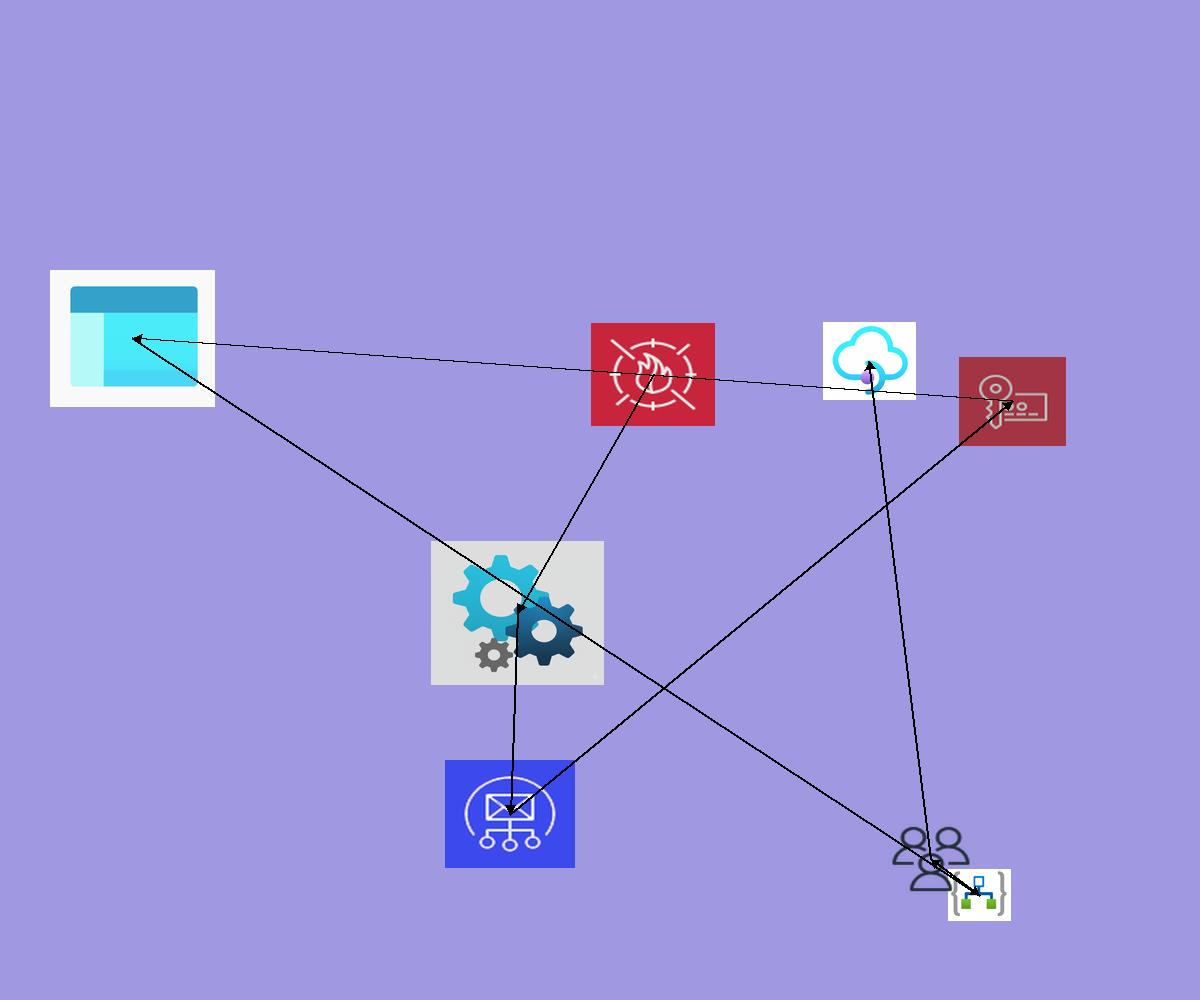AWS-Key-Management-Service: (959, 357, 1066, 446)
AWS-Res_Users: (889, 824, 973, 894)
AWS-Simple-Email-Service: (445, 760, 575, 868)
AWS-WAF: (591, 323, 715, 426)
Azure_api: (431, 541, 604, 685)
Azure_api_gateway: (823, 322, 916, 400)
Azure_integration-204-Logic-Apps: (948, 869, 1011, 921)
Azure_management-portal: (50, 270, 215, 407)
